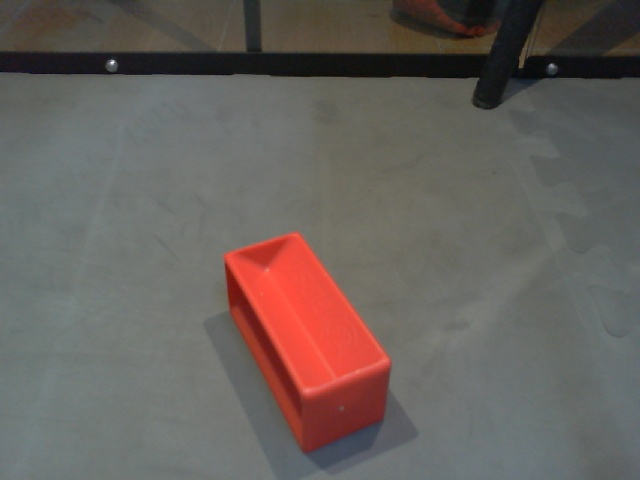RedSample: (221, 229, 395, 455)
